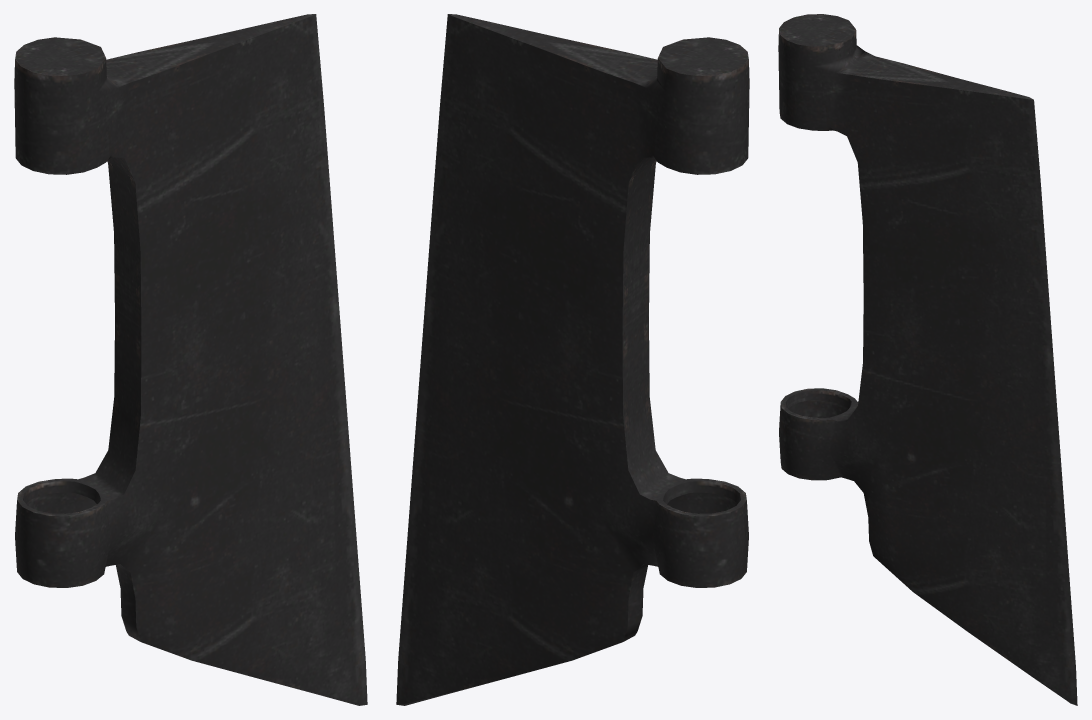
The model's file is wm_isengard_2h_axe_a01_blade.fbx.
3 views of the same model, side by side, from view 1: azimuth 30°, elevation 25°; view 2: azimuth 150°, elevation 25°; view 3: azimuth 330°, elevation 25° (orthographic). The views are drawn at different scales.
Parts seen in each view (by area): view 1: wm_isengard_2h_axe_a01_blade; view 2: wm_isengard_2h_axe_a01_blade; view 3: wm_isengard_2h_axe_a01_blade.
Part boxes in pixels (x1,y1,x2,y2): wm_isengard_2h_axe_a01_blade: [14, 14, 367, 705]; wm_isengard_2h_axe_a01_blade: [396, 14, 749, 705]; wm_isengard_2h_axe_a01_blade: [778, 14, 1077, 705].
Size of the model in its own units: 0.2091 by 0.049 by 0.4159.
1 material, 1 textured.
